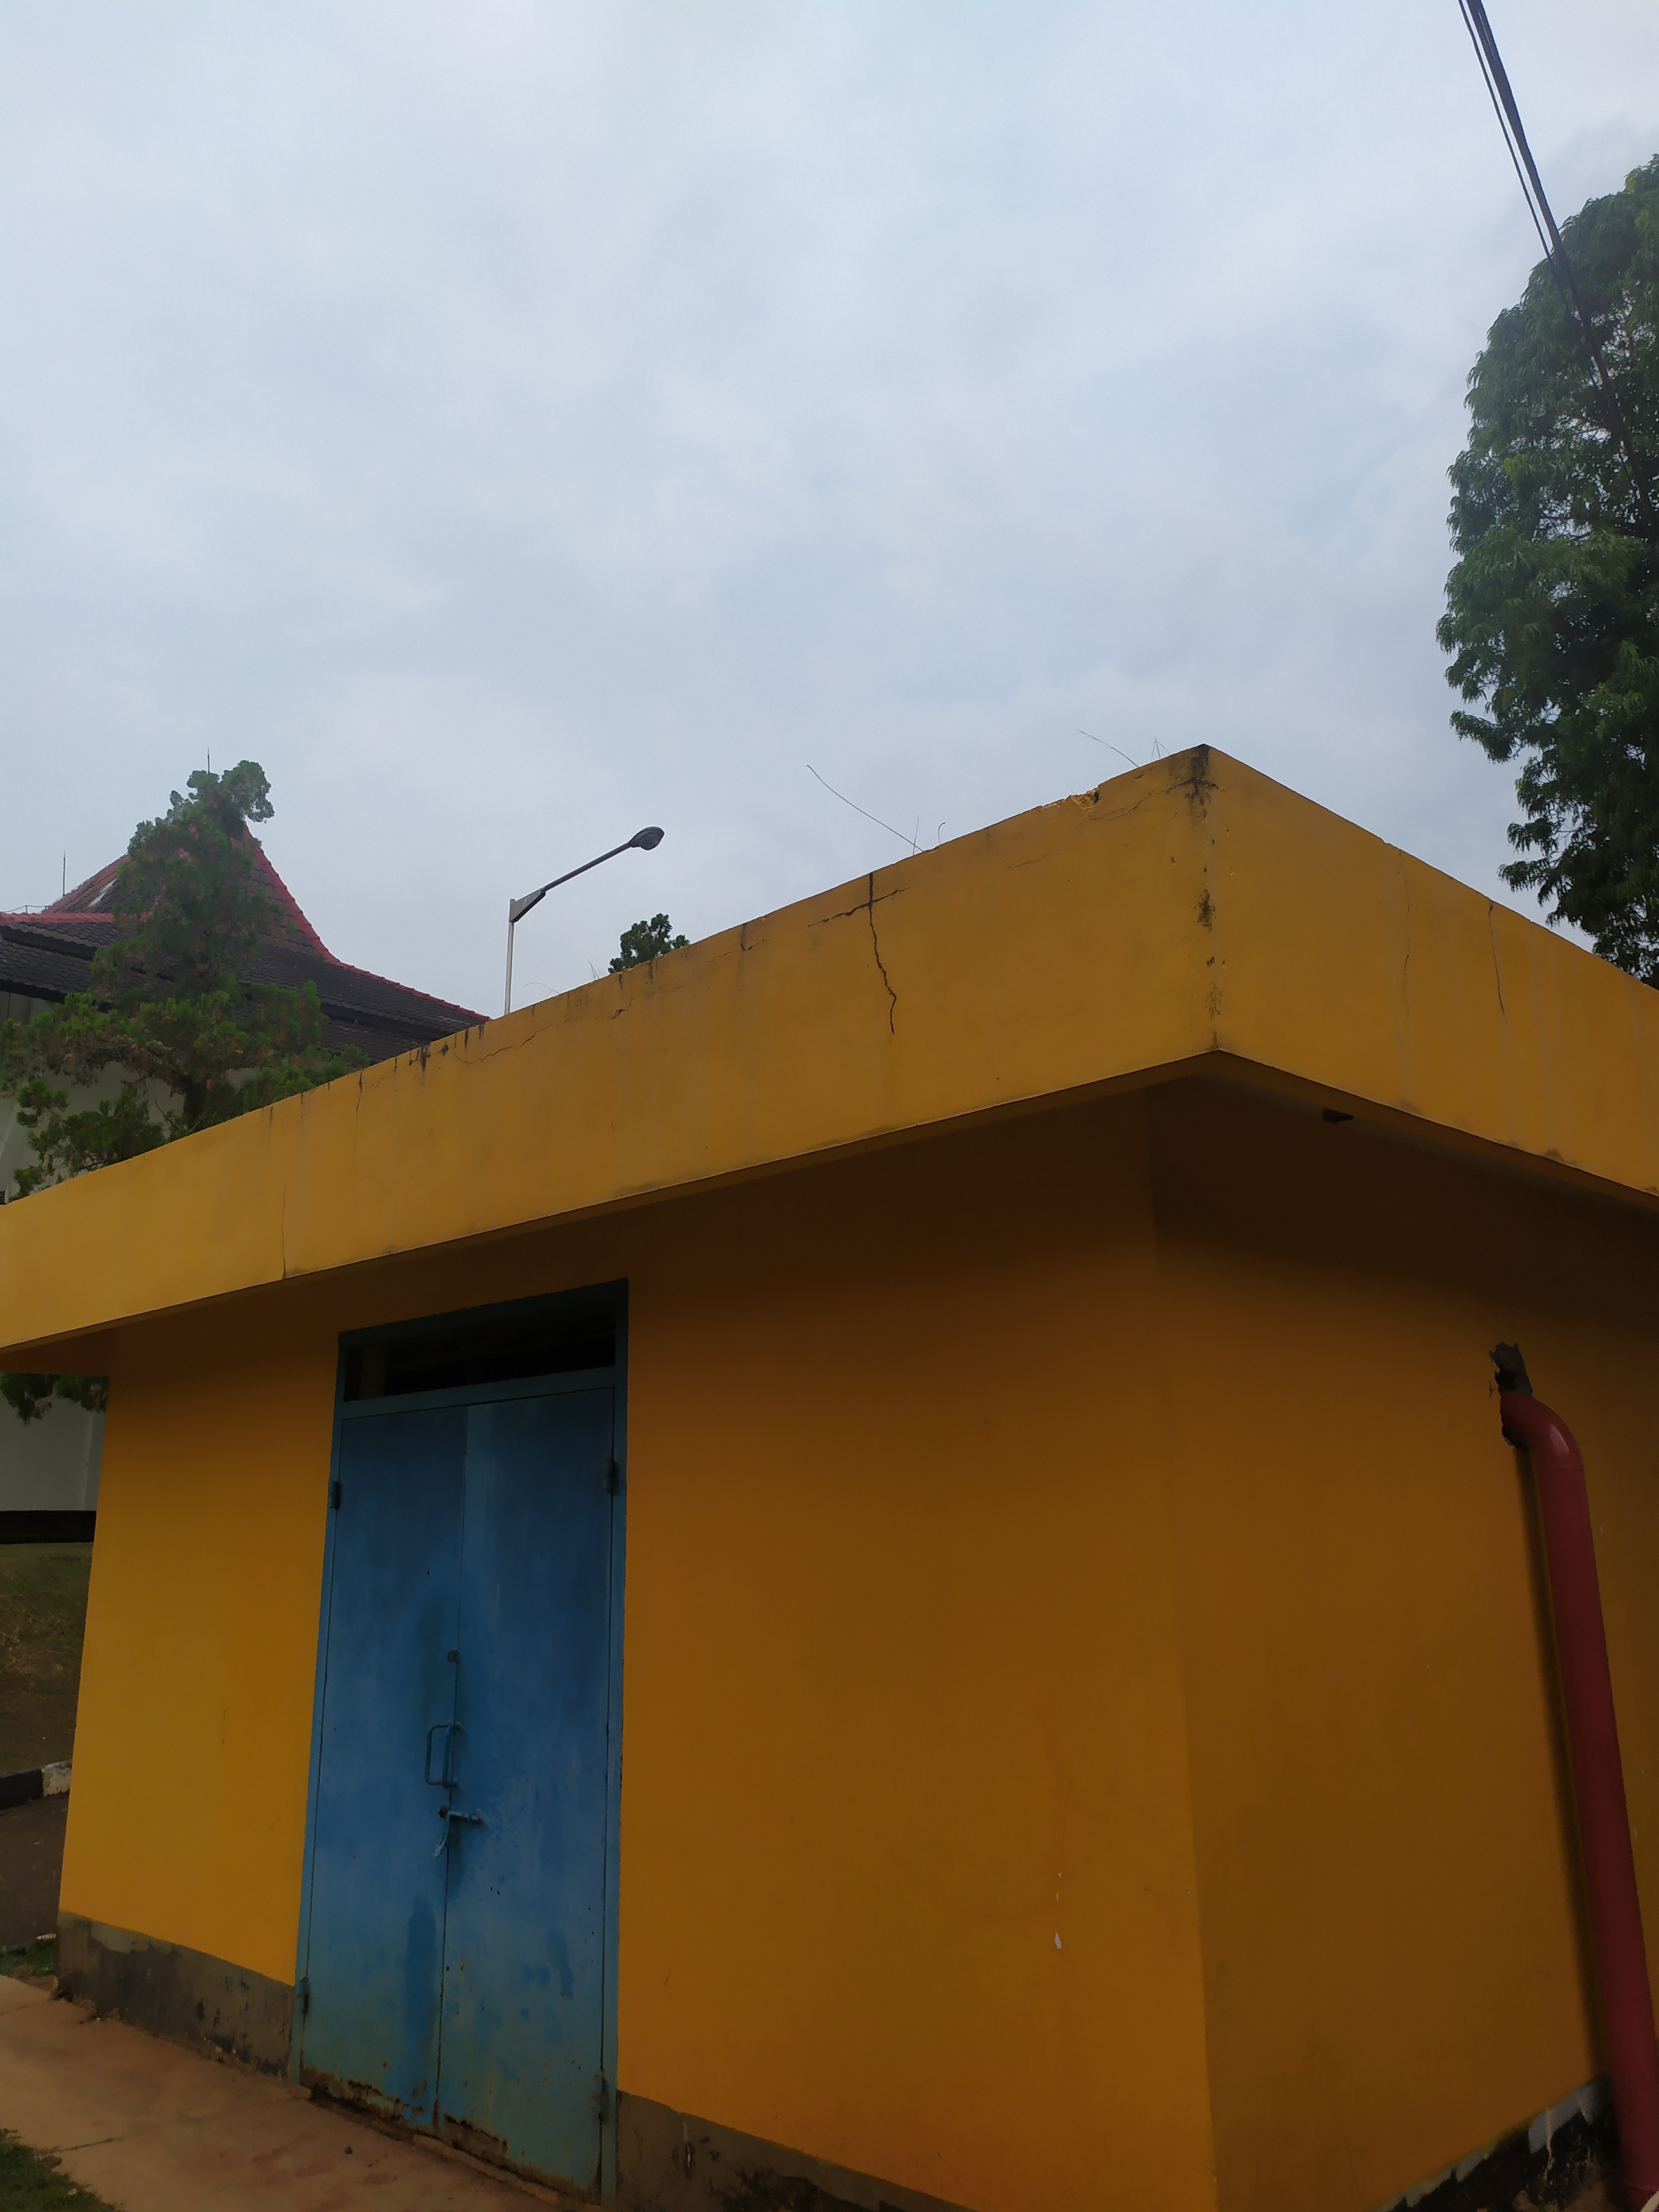crack: (1086, 772, 1222, 822), (870, 873, 903, 1036), (453, 1024, 552, 1066), (279, 1179, 295, 1278)
